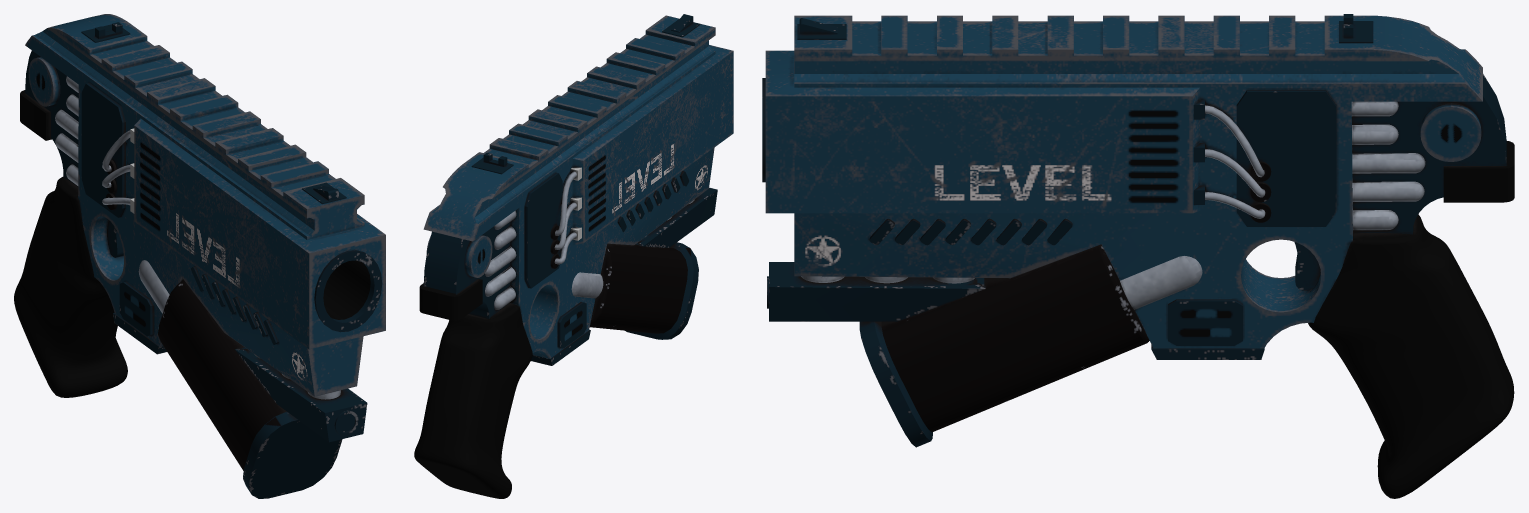
Rendered from handgun_cc.glb.
3 renders of one model, left to right at view 1: azimuth 30°, elevation 25°; view 2: azimuth 150°, elevation 25°; view 3: azimuth 270°, elevation 25°, orthographic. The views are drawn at different scales.
Parts seen in each view (by area): view 1: obj_handgun_cc; view 2: obj_handgun_cc; view 3: obj_handgun_cc.
Boxes of the visible parts, <box> form: obj_handgun_cc: <box>14,14,385,498</box>; obj_handgun_cc: <box>414,14,733,498</box>; obj_handgun_cc: <box>762,14,1514,498</box>.
Size of the model in its own units: 0.0333 by 0.1388 by 0.2043.
1 material, 1 textured.
